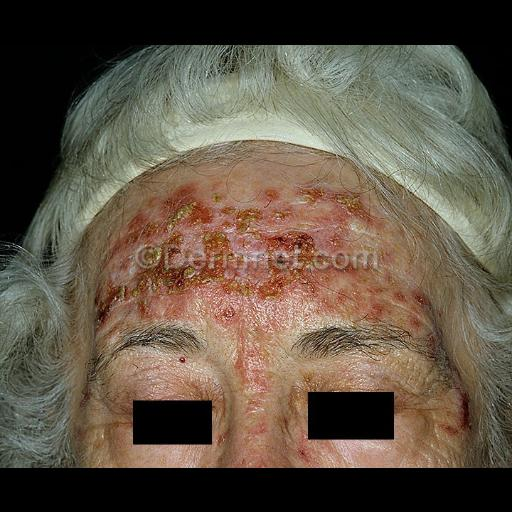Skin_Lesion: (233, 293, 307, 337), (158, 179, 230, 213), (349, 54, 389, 108), (132, 292, 182, 320), (207, 295, 243, 333), (232, 442, 280, 466), (243, 364, 271, 394), (414, 286, 436, 318), (364, 298, 394, 320), (258, 184, 284, 206), (422, 332, 442, 354), (246, 416, 268, 434), (442, 419, 464, 435), (172, 350, 190, 366), (212, 426, 226, 446), (298, 446, 310, 460), (328, 236, 344, 246)
